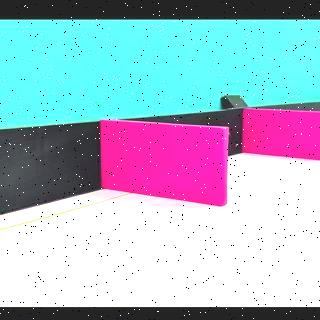xparking: (109, 132, 225, 202), (247, 114, 316, 158)
